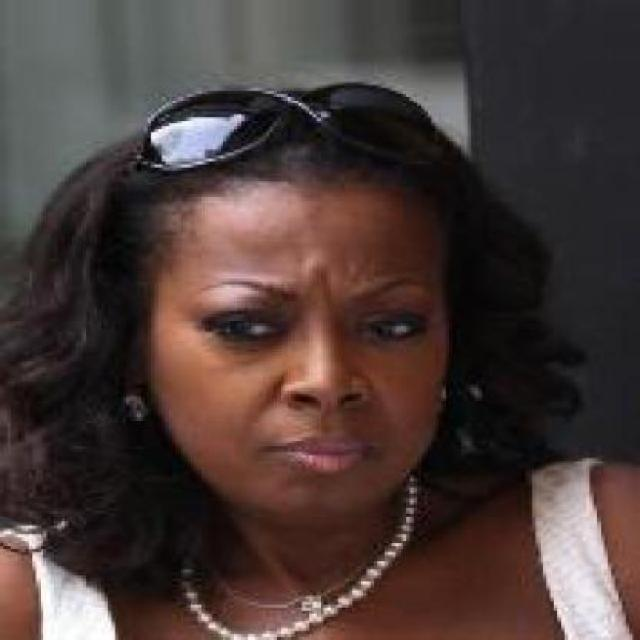closed-mouth: (260, 432, 382, 470)
